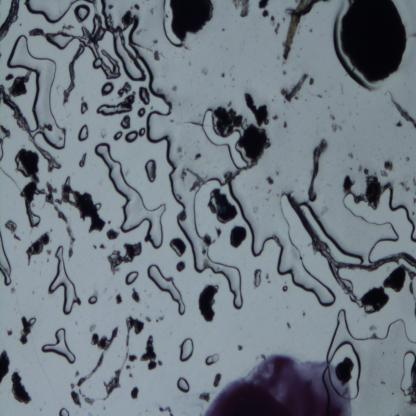Air bubble: (232, 185, 340, 308), (171, 154, 248, 312), (92, 142, 168, 248), (4, 34, 69, 150), (322, 307, 416, 363), (49, 246, 84, 316), (109, 29, 148, 85), (147, 265, 186, 317), (39, 325, 77, 366), (0, 231, 15, 288), (95, 101, 136, 118), (179, 336, 195, 363), (144, 159, 160, 184), (74, 3, 91, 24), (75, 122, 91, 144), (175, 376, 192, 396), (203, 351, 223, 365), (100, 79, 114, 99), (124, 269, 140, 286), (124, 129, 139, 146), (253, 266, 264, 289), (138, 87, 151, 106), (77, 101, 91, 117), (77, 150, 89, 168), (138, 105, 148, 120), (88, 295, 100, 305), (56, 407, 71, 415), (112, 132, 124, 141), (139, 126, 147, 139), (28, 317, 37, 326)
Background material: (337, 1, 410, 86), (58, 176, 106, 235), (281, 2, 323, 65), (10, 152, 45, 226), (169, 0, 219, 40), (238, 126, 273, 165), (209, 103, 242, 137), (101, 242, 144, 268), (23, 230, 51, 268), (197, 281, 221, 324), (136, 335, 162, 372), (358, 288, 389, 318), (0, 120, 16, 177), (377, 266, 410, 293), (361, 170, 387, 204), (244, 91, 270, 125), (10, 370, 33, 405), (179, 164, 205, 191), (332, 356, 354, 385), (11, 316, 31, 346), (228, 223, 248, 251), (122, 6, 141, 34), (204, 223, 224, 248), (69, 378, 82, 410), (169, 234, 187, 257), (234, 0, 250, 22), (7, 218, 20, 242), (124, 284, 141, 302), (341, 171, 356, 191), (259, 0, 272, 23), (0, 349, 9, 382), (158, 399, 175, 414), (107, 227, 123, 242), (381, 159, 398, 173), (329, 113, 343, 130), (128, 386, 142, 400), (212, 368, 221, 388), (399, 180, 411, 195), (169, 82, 181, 96), (271, 17, 281, 33), (152, 49, 162, 63), (200, 389, 211, 401), (265, 175, 275, 186), (92, 239, 100, 252), (394, 119, 403, 130), (272, 110, 279, 124), (307, 74, 314, 88), (178, 262, 186, 274), (114, 296, 122, 307), (226, 171, 234, 182), (280, 282, 288, 293), (154, 316, 164, 324), (194, 150, 202, 160), (282, 117, 288, 128), (219, 71, 227, 79), (286, 320, 292, 330), (237, 344, 245, 350)
Cellulose filter fibre: (285, 188, 416, 300), (0, 88, 64, 171), (77, 321, 138, 407), (305, 134, 332, 201), (61, 44, 84, 106), (386, 89, 416, 131), (282, 70, 311, 103), (0, 1, 23, 42)
Fragment: (208, 188, 240, 224)
Pen: (197, 352, 358, 415)
